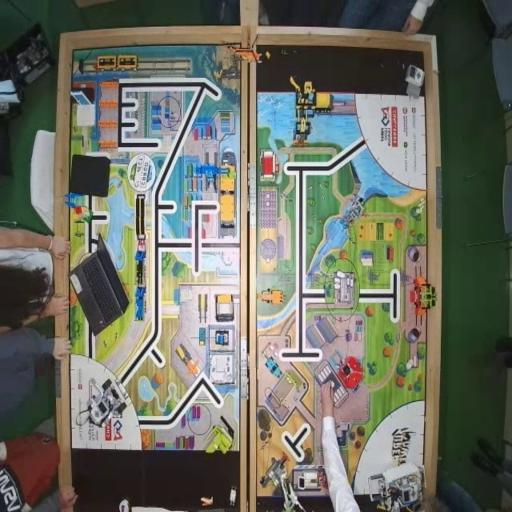lego_robot: (76, 377, 128, 430), (368, 464, 425, 512)
